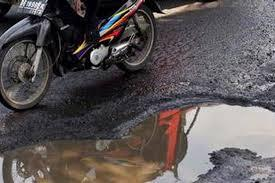Pothole: (0, 94, 275, 183)
